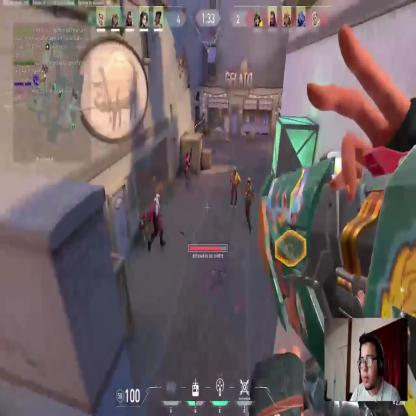enemy: (148, 190, 166, 250), (243, 174, 254, 234), (230, 165, 240, 210), (182, 151, 191, 188)
enemy_head: (155, 193, 160, 205), (246, 177, 252, 187), (233, 165, 237, 174), (186, 152, 189, 159)
